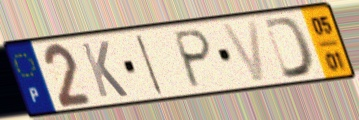2: (42, 40, 95, 111)
D: (261, 15, 318, 82)
I: (133, 32, 166, 97)
K: (78, 39, 131, 100)
P: (172, 27, 214, 91)
V: (219, 18, 269, 85)
